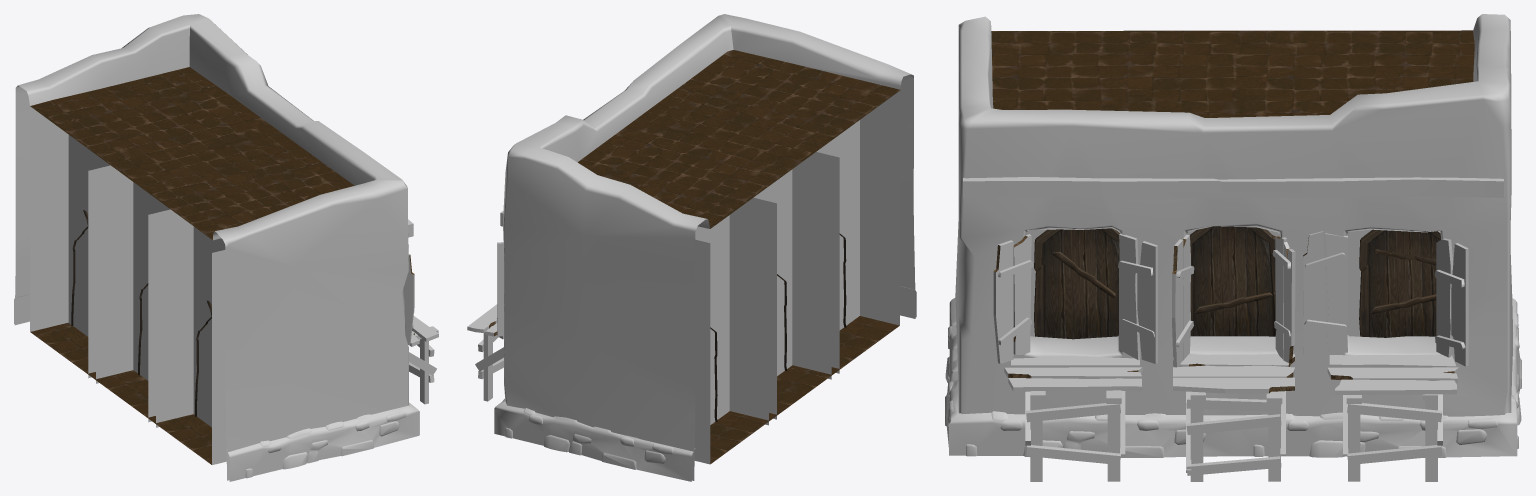
File: lower_city_counter_01.fbx
3 views of the same model, side by side, from view 1: azimuth 30°, elevation 25°; view 2: azimuth 150°, elevation 25°; view 3: azimuth 270°, elevation 25° (orthographic). The views are drawn at different scales.
Parts seen in each view (by area): view 1: lower_city_counter_01; view 2: lower_city_counter_01; view 3: lower_city_counter_01.
Part boxes in pixels (x1=…): lower_city_counter_01: x1=14, y1=14, x2=438, y2=481; lower_city_counter_01: x1=467, y1=14, x2=916, y2=481; lower_city_counter_01: x1=945, y1=14, x2=1521, y2=481.
Size of the model in its own units: 5.02 by 5.31 by 7.77.
